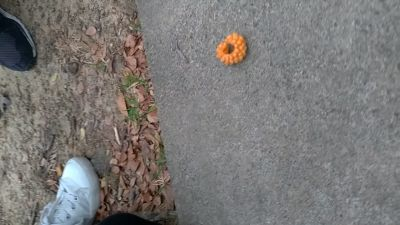eggs: (215, 34, 246, 65)
